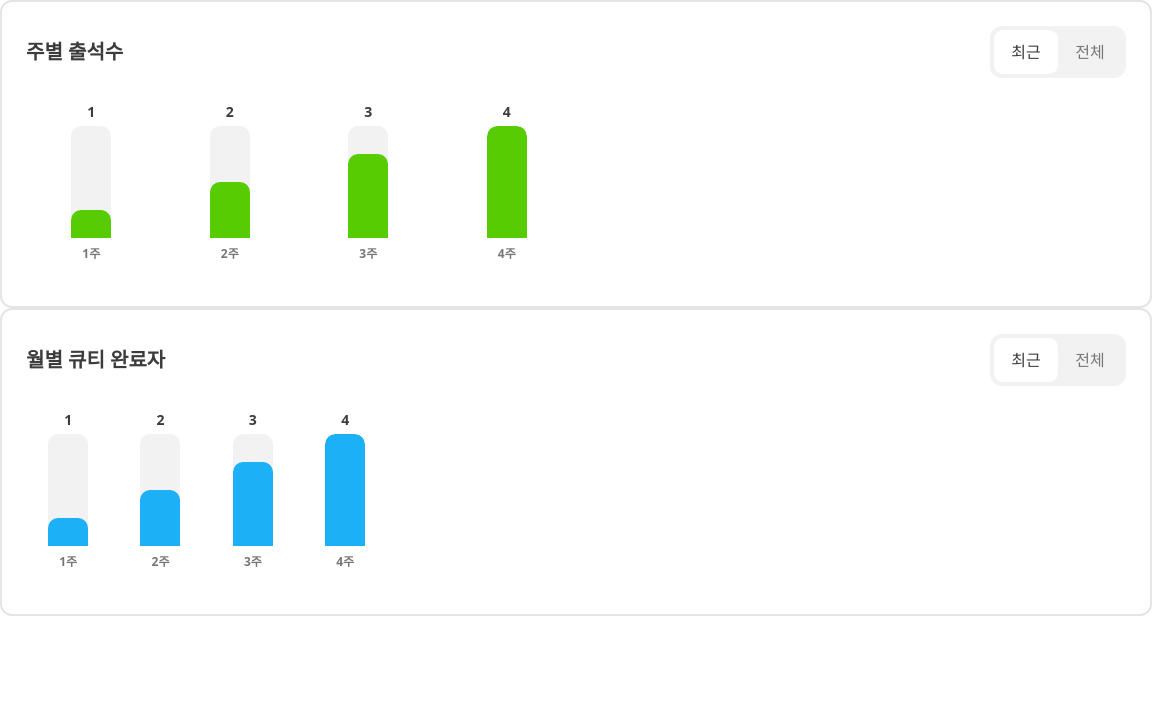
Scenario: report components › toggles each chart card independently and keeps the full line graph noninteractive
expect the element "주별 출석수" is shown: met, box x1=0 y1=0 x2=1151 y2=308
expect the element "월별 큐티 완료자" is shown: met, box x1=0 y1=308 x2=1151 y2=616
Click the button "전체" in the row of "주별 출석수" at (1090, 52), box x1=1058 y1=30 x2=1122 y2=74
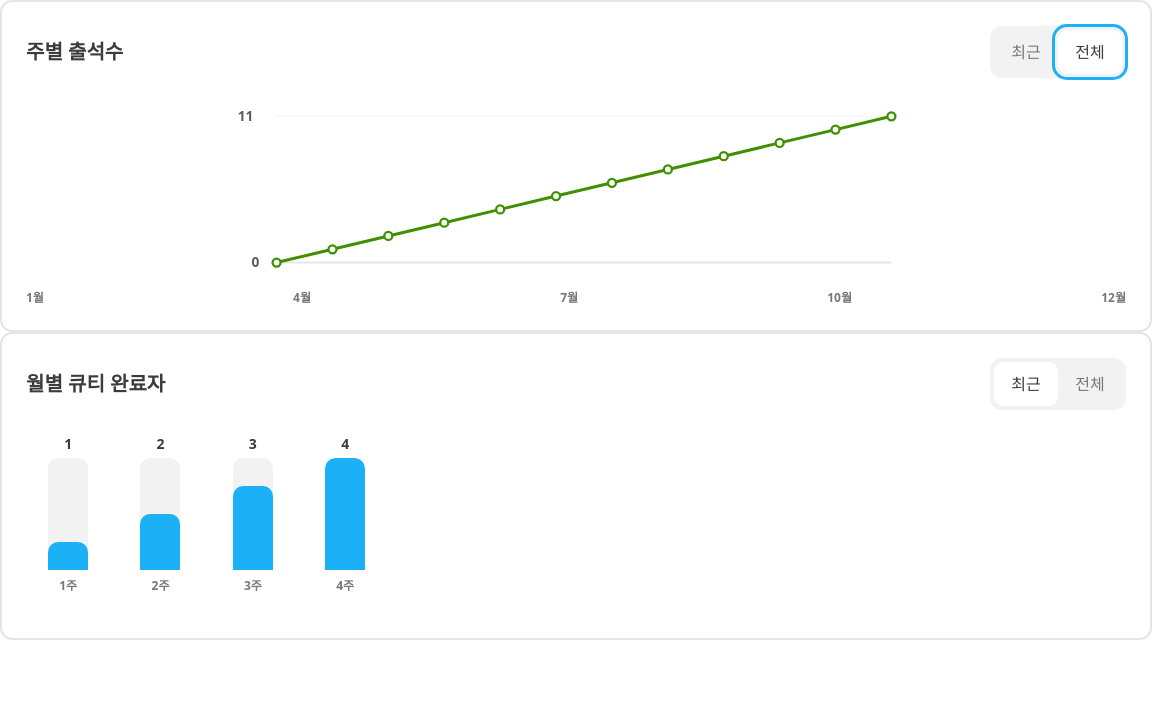
expect the text "11" is shown: met, box x1=238 y1=106 x2=253 y2=125
expect the picture named "주별 출석수 라인 그래프" is shown: met, box x1=26 y1=98 x2=1126 y2=290
